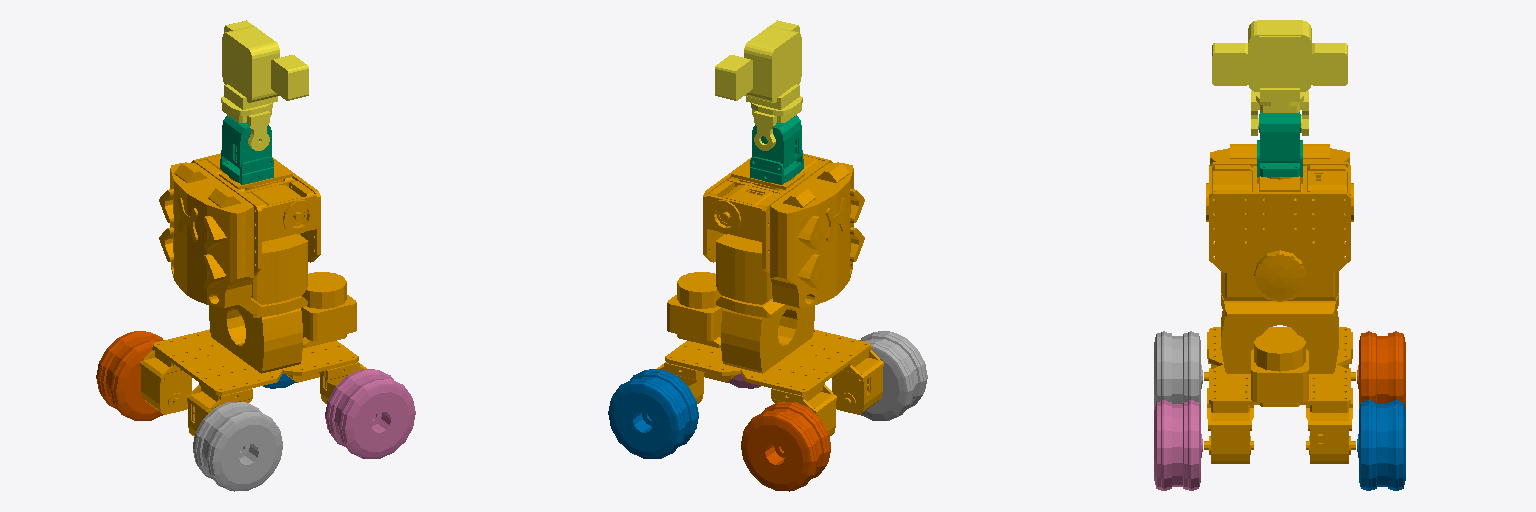
URDF robot description (kx_pr2):
<?xml version='1.0' encoding='utf-8'?>
<robot name="kx_pr2">

  <link name="base_link">
    <visual>
      <origin xyz="0.054 0 0.089" rpy="0 -0 0" />
      <geometry>
        <mesh filename="package://kx_pr2_bringup/urdf/meshes/base_link_mesh.stl" scale="1 1 1" />
      </geometry>
    </visual>
    <collision>
      <origin xyz="0.054 0 0.089" rpy="0 -0 0" />
      <geometry>
        <mesh filename="package://kx_pr2_bringup/urdf/meshes/base_link_mesh.stl" scale="1 1 1" />
      </geometry>
    </collision>
    <inertial>
      <mass value="0.671312" />
      <origin xyz="0.00124 1.38911e-10 0.02081" rpy="0 -0 0" />
      <inertia ixx="0.001849" ixy="-8.30713e-06" ixz="-1.71308e-06" iyy="0.002122" iyz="1.45167e-06" izz="0.003179" />
    </inertial>
  </link>

  <link name="base_laser">
    <visual>
    </visual>
    <collision>
    </collision>
  </link>

  <joint name="base_laser_joint" type="fixed">
    <origin xyz="0.1 0 -0.0" rpy="0 0 0"/>
    <parent link="base_link"/>
    <child link="base_laser"/>
  </joint>

  <link name="HEAD_LINK0">
    <visual>
      <origin xyz="-0.00725 0 0.1065" rpy="0 -0 0" />
      <geometry>
        <mesh filename="package://kx_pr2_bringup/urdf/meshes/HEAD_LINK0_mesh.stl" scale="1 1 1" />
      </geometry>
    </visual>
    <collision>
      <origin xyz="-0.00725 0 0.1065" rpy="0 -0 0" />
      <geometry>
        <mesh filename="package://kx_pr2_bringup/urdf/meshes/HEAD_LINK0_mesh.stl" scale="1 1 1" />
      </geometry>
    </collision>
    <inertial>
      <mass value="0.037398" />
      <origin xyz="-1.73472e-18 1.22056e-18 0.023093" rpy="0 -0 0" />
      <inertia ixx="8.69139e-05" ixy="-8.96373e-22" ixz="8.61164e-09" iyy="9.09972e-05" iyz="-5.25778e-09" izz="2.5436e-05" />
    </inertial>
  </link>

  <link name="HEAD_LINK1">
    <visual>
      <origin xyz="0 0 0.036" rpy="0 -0 0" />
      <geometry>
        <mesh filename="package://kx_pr2_bringup/urdf/meshes/HEAD_LINK1_mesh.stl" scale="1 1 1" />
      </geometry>
    </visual>
    <collision>
      <origin xyz="0 0 0.036" rpy="0 -0 0" />
      <geometry>
        <mesh filename="package://kx_pr2_bringup/urdf/meshes/HEAD_LINK1_mesh.stl" scale="1 1 1" />
      </geometry>
    </collision>
    <inertial>
      <mass value="0.093045" />
      <origin xyz="-0.001016 3.60351e-18 0.186465" rpy="0 -0 0" />
      <inertia ixx="0.000665" ixy="-1.79922e-07" ixz="-6.65543e-08" iyy="0.000652" iyz="-1.79583e-08" izz="0.000109" />
    </inertial>
  </link>


  <link name="LLEG_LINK0">
    <visual>
      <origin xyz="0.054 0.048 -0.065" rpy="0 -0 0"/>
      <geometry>
        <mesh filename="package://kx_pr2_bringup/urdf/meshes/LLEG_LINK0_mesh.stl" scale="1 1 1" />
      </geometry>
    </visual>
    <collision>
      <origin xyz="0 0 0" rpy="0 1.5707963267948966 1.5707963267948966"/>
      <geometry>
        <cylinder radius="0.04" length="0.02"/>
      </geometry>
    </collision>

    <inertial>
      <mass value="0.095024" />
      <origin xyz="-6.93889e-18 0.016915 0" rpy="0 -0 0"/>
      <inertia ixx="0.000174" ixy="5.92949e-22" ixz="5.05172e-20" iyy="0.000173" iyz="1.9762e-20" izz="0.000262"/>
    </inertial>
  </link>
  <link name="LLEG_LINK1">
    <visual>
      <origin xyz="-0.054 0.048 -0.065" rpy="0 -0 0"/>
      <geometry>
        <mesh filename="package://kx_pr2_bringup/urdf/meshes/LLEG_LINK1_mesh.stl" scale="1 1 1" />
      </geometry>
    </visual>
    <collision>
      <origin xyz="0 0 0" rpy="0 1.5707963267948966 1.5707963267948966"/>
      <geometry>
        <cylinder radius="0.04" length="0.02"/>
      </geometry>
    </collision>

    <inertial>
      <mass value="0.095024" />
      <origin xyz="-6.93889e-18 0.016915 0" rpy="0 -0 0"/>
      <inertia ixx="0.000174" ixy="5.92613e-22" ixz="5.04856e-20" iyy="0.000173" iyz="6.91669e-20" izz="0.000262"/>
    </inertial>
  </link>


  <link name="RLEG_LINK0">
    <visual>
      <origin xyz="0.054 -0.048 -0.065" rpy="0 -0 0"/>
      <geometry>
        <mesh filename="package://kx_pr2_bringup/urdf/meshes/RLEG_LINK0_mesh.stl" scale="1 1 1" />
      </geometry>
    </visual>
    <collision>
      <origin xyz="0 0 0" rpy="0 1.5707963267948966 1.5707963267948966"/>
      <geometry>
        <cylinder radius="0.04" length="0.02"/>
      </geometry>
    </collision>

    <inertial>
      <mass value="0.095024" />
      <origin xyz="-6.93889e-18 0.016915 0" rpy="0 -0 0"/>
      <inertia ixx="0.000174" ixy="5.9261e-22" ixz="5.04911e-20" iyy="0.000173" iyz="-1.9762e-20" izz="0.000262"/>
    </inertial>
  </link>
  <link name="RLEG_LINK1">
    <visual>
      <origin xyz="-0.054 -0.048 -0.065" rpy="0 -0 0"/>
      <geometry>
        <mesh filename="package://kx_pr2_bringup/urdf/meshes/RLEG_LINK1_mesh.stl" scale="1 1 1" />
      </geometry>
    </visual>
    <collision>
      <origin xyz="0 0 0" rpy="0 1.5707963267948966 1.5707963267948966"/>
      <geometry>
        <cylinder radius="0.04" length="0.02"/>
      </geometry>
    </collision>

    <inertial>
      <mass value="0.095024" />
      <origin xyz="-6.93889e-18 0.016915 0" rpy="0 -0 0"/>
      <inertia ixx="0.000174" ixy="5.93143e-22" ixz="5.05395e-20" iyy="0.000173" iyz="-3.95239e-20" izz="0.000262"/>
    </inertial>
  </link>

  <joint name="LLEG_JOINT0" type="continuous">
    <parent link="base_link"/>
    <child  link="LLEG_LINK0"/>
    <origin xyz="0.054 0.048 -0.065" rpy="0 -0 0 "/>
    <axis   xyz="0 1 0"/>
    <limit lower="-1745.33" upper="1745.33" effort="0.656248" velocity="7.47998" />
    <dynamics damping="0.2" friction="0" />
  </joint>
  <joint name="LLEG_JOINT1" type="continuous">
    <parent link="base_link"/>
    <child  link="LLEG_LINK1"/>
    <origin xyz="-0.054 0.048 -0.065" rpy="0 -0 0 "/>
    <axis   xyz="0 1 0"/>
    <limit lower="-1745.33" upper="1745.33" effort="0.656248" velocity="7.47998" />
    <dynamics damping="0.2" friction="0" />
  </joint>
  <joint name="RLEG_JOINT0" type="continuous">
    <parent link="base_link"/>
    <child  link="RLEG_LINK0"/>
    <origin xyz="0.054 -0.048 -0.065" rpy="0 -0 0 "/>
    <axis   xyz="0 1 0"/>
    <limit lower="-1745.33" upper="1745.33" effort="0.656248" velocity="7.47998" />
    <dynamics damping="0.2" friction="0" />
  </joint>
  <joint name="RLEG_JOINT1" type="continuous">
    <parent link="base_link"/>
    <child  link="RLEG_LINK1"/>
    <origin xyz="-0.054 -0.048 -0.065" rpy="0 -0 0 "/>
    <axis   xyz="0 1 0"/>
    <limit lower="-1745.33" upper="1745.33" effort="0.656248" velocity="7.47998" />
    <dynamics damping="0.2" friction="0" />
  </joint>
  <joint name="HEAD_JOINT0" type="revolute">
    <parent link="base_link" />
    <child link="HEAD_LINK0" />
    <origin xyz="-0.00725 0 0.1065" rpy="0 -0 0 " />
    <axis xyz="0 0 -1" />
    <limit lower="-2.96706" upper="2.96706" effort="0.656248" velocity="7.47998" />
    <dynamics damping="0.2" friction="0" />
  </joint>
  <joint name="HEAD_JOINT1" type="revolute">
    <parent link="HEAD_LINK0" />
    <child link="HEAD_LINK1" />
    <origin xyz="0 0 0.036" rpy="0 -0 0 " />
    <axis xyz="0 -1 0" />
    <limit lower="-2.0944" upper="2.0944" effort="0.656248" velocity="7.47998" />
    <dynamics damping="0.2" friction="0" />
  </joint>

  <gazebo reference="base_link">
    <mu1>0.5</mu1>
    <mu2>0.5</mu2>
    <kp>100000</kp>
    <kd>1</kd>
    <gravity>true</gravity>
    <sensor name="imu_sensor" type="imu">
      <always_on>true</always_on>
      <update_rate>100</update_rate>
      <visualize>true</visualize>
      <topic>__default_topic__</topic>
      <plugin filename="libgazebo_ros_imu_sensor.so" name="imu_plugin">
        <robotNamespace>/imu_publisher</robotNamespace>
        <topicName>imu</topicName>
        <bodyName>base_link</bodyName>
        <updateRateHZ>100.0</updateRateHZ>
        <gaussianNoise>0.0</gaussianNoise>
        <xyzOffset>0 0 0</xyzOffset>
        <rpyOffset>0 0 0</rpyOffset>
        <frameName>base_link</frameName>
      </plugin>
      <pose>0 0 0 0 0 0</pose>
    </sensor>
  </gazebo>

  <gazebo reference="base_laser">
    <sensor type="ray" name="laser">
      <pose>0 0 0 0 0 0</pose>
      <visualize>true</visualize>
      <update_rate>10</update_rate>
      <ray>
        <scan>
          <horizontal>
            <samples>720</samples>
            <resolution>1</resolution>
            <min_angle>-1.5708</min_angle>
            <max_angle>1.5708</max_angle>
          </horizontal>
        </scan>
        <range>
          <min>0.1</min>
          <max>12.0</max>
        </range>
        <noise>
          <type>gaussian</type>
          <mean>0.0</mean>
          <stddev>0.01</stddev>
        </noise>
      </ray>
      <plugin name="gazebo_ros_laser" filename="libgazebo_ros_laser.so">
        <robotNamespace>/</robotNamespace>
        <frameName>base_laser</frameName>
        <topicName>scan</topicName>
      </plugin>
    </sensor>
  </gazebo>

  <gazebo reference="HEAD_LINK0">
    <mu1>0.4</mu1>
    <mu2>0.4</mu2>
    <kp>100000</kp>
    <kd>1</kd>
  </gazebo>
  <gazebo reference="HEAD_LINK1">
    <mu1>0.5</mu1>
    <mu2>0.5</mu2>
    <kp>100000</kp>
    <kd>1</kd>
  </gazebo>
  <gazebo reference="LLEG_LINK0">
    <mu1>0.5</mu1>
    <mu2>0.5</mu2>
    <kp>100000</kp>
    <kd>1</kd>
  </gazebo>
  <gazebo reference="LLEG_LINK1">
    <mu1>0.5</mu1>
    <mu2>0.5</mu2>
    <kp>100000</kp>
    <kd>1</kd>
  </gazebo>
  <gazebo reference="RLEG_LINK0">
    <mu1>0.5</mu1>
    <mu2>0.5</mu2>
    <kp>100000</kp>
    <kd>1</kd>
  </gazebo>
  <gazebo reference="RLEG_LINK1">
    <mu1>0.5</mu1>
    <mu2>0.5</mu2>
    <kp>100000</kp>
    <kd>1</kd>
  </gazebo>

  <joint name="camera_joint" type="fixed">
    <origin rpy="0 0 0" xyz="-0.031 0.0125 -0.016"/>
    <parent link="HEAD_LINK1"/>
    <child link="camera_link"/>
  </joint>

  <link name="camera_link">
    <visual>
      <origin rpy="0 0 1.5707963267948966" xyz="0 0 0"/>
      <!-- <geometry> -->
      <!--   <mesh filename="package://turtlebot_description/meshes/sensors/kinect.stl"/> -->
      <!-- </geometry> -->
    </visual>
    <collision>
      <origin rpy="0 0 0" xyz="0.0 0.0 0.0"/>
      <!-- <geometry> -->
      <!--   <box size="0.07271 0.27794 0.073"/> -->
      <!-- </geometry> -->
    </collision>
    <inertial>
      <mass value="0.564"/>
      <origin xyz="0 0 0"/>
      <inertia ixx="0.003881243" ixy="0.0" ixz="0.0" iyy="0.000498940" iyz="0.0" izz="0.003879257"/>
    </inertial>
  </link>
  <!-- The fixed joints & links below are usually published by static_transformers launched by the OpenNi launch
       files. However, for Gazebo simulation we need them, so we add them here.
       (Hence, don't publish them additionally!) -->
  <joint name="camera_depth_joint" type="fixed">
    <origin rpy="0 0 0" xyz="0 0.025 0"/>
    <parent link="camera_link"/>
    <child link="camera_depth_frame"/>
  </joint>
  <link name="camera_depth_frame"/>
  <joint name="camera_depth_optical_joint" type="fixed">
    <origin rpy="-1.5707963267948966 0 -1.5707963267948966" xyz="0 0 0"/>
    <parent link="camera_depth_frame"/>
    <child link="camera_depth_optical_frame"/>
  </joint>
  <link name="camera_depth_optical_frame"/>
  <gazebo reference="camera_link">
    <sensor name="camera" type="depth">
      <always_on>true</always_on>
      <update_rate>20.0</update_rate>
      <camera>
        <horizontal_fov>1.0471975511965976</horizontal_fov>
        <image>
          <format>B8G8R8</format>
          <width>640</width>
          <height>480</height>
        </image>
        <clip>
          <near>0.05</near>
          <far>8.0</far>
        </clip>
      </camera>
      <plugin filename="libgazebo_ros_openni_kinect.so" name="kinect_camera_controller">
        <cameraName>camera</cameraName>
        <alwaysOn>true</alwaysOn>
        <updateRate>10</updateRate>
        <imageTopicName>rgb/image_raw</imageTopicName>
        <depthImageTopicName>depth/image_raw</depthImageTopicName>
        <pointCloudTopicName>depth/points</pointCloudTopicName>
        <cameraInfoTopicName>rgb/camera_info</cameraInfoTopicName>
        <depthImageCameraInfoTopicName>depth/camera_info</depthImageCameraInfoTopicName>
        <frameName>camera_depth_optical_frame</frameName>
        <baseline>0.1</baseline>
        <distortion_k1>0.0</distortion_k1>
        <distortion_k2>0.0</distortion_k2>
        <distortion_k3>0.0</distortion_k3>
        <distortion_t1>0.0</distortion_t1>
        <distortion_t2>0.0</distortion_t2>
        <pointCloudCutoff>0.4</pointCloudCutoff>
      </plugin>
    </sensor>
  </gazebo>

  <gazebo>
    <plugin filename="libgazebo_ros_control.so" name="gazebo_ros_control"/>
    <!-- <plugin filename="libgazebo_ros_p3d.so" name="ground_truth"> -->
    <!--   <frameName>map</frameName> -->
    <!--   <bodyName>base_footprint</bodyName> -->
    <!--   <topicName>base_pose_ground_truth</topicName> -->
    <!--   <updateRate>30.0</updateRate> -->
    <!-- </plugin> -->
  </gazebo>

  <transmission name="HEAD_JOINT0_trans">
    <type>transmission_interface/SimpleTransmission</type>
    <joint name="HEAD_JOINT0">
      <hardwareInterface>hardware_interface/PositionJointInterface</hardwareInterface>
    </joint>
    <actuator name="HEAD_JOINT0_motor">
      <mechanicalReduction>1</mechanicalReduction>
      <hardwareInterface>hardware_interface/PositionJointInterface</hardwareInterface>
    </actuator>
  </transmission>

  <transmission name="HEAD_JOINT1_trans">
    <type>transmission_interface/SimpleTransmission</type>
    <joint name="HEAD_JOINT1">
      <hardwareInterface>hardware_interface/PositionJointInterface</hardwareInterface>
    </joint>
    <actuator name="HEAD_JOINT1_motor">
      <mechanicalReduction>1</mechanicalReduction>
      <hardwareInterface>hardware_interface/PositionJointInterface</hardwareInterface>
    </actuator>
  </transmission>

  <transmission name="RLEG_JOINT0_trans">
    <type>transmission_interface/SimpleTransmission</type>
    <joint name="RLEG_JOINT0">
      <hardwareInterface>hardware_interface/VelocityJointInterface</hardwareInterface>
    </joint>
    <actuator name="RLEG_JOINT0_motor">
      <mechanicalReduction>1</mechanicalReduction>
      <hardwareInterface>hardware_interface/VelocityJointInterface</hardwareInterface>
    </actuator>
  </transmission>

  <transmission name="RLEG_JOINT1_trans">
    <type>transmission_interface/SimpleTransmission</type>
    <joint name="RLEG_JOINT1">
      <hardwareInterface>hardware_interface/VelocityJointInterface</hardwareInterface>
    </joint>
    <actuator name="RLEG_JOINT1_motor">
      <mechanicalReduction>1</mechanicalReduction>
      <hardwareInterface>hardware_interface/VelocityJointInterface</hardwareInterface>
    </actuator>
  </transmission>

  <transmission name="LLEG_JOINT0_trans">
    <type>transmission_interface/SimpleTransmission</type>
    <joint name="LLEG_JOINT0">
      <hardwareInterface>hardware_interface/VelocityJointInterface</hardwareInterface>
    </joint
    ><actuator name="LLEG_JOINT0_motor">
    <mechanicalReduction>1</mechanicalReduction>
    <hardwareInterface>hardware_interface/VelocityJointInterface</hardwareInterface>
  </actuator>
  </transmission>

  <transmission name="LLEG_JOINT1_trans">
    <type>transmission_interface/SimpleTransmission</type>
    <joint name="LLEG_JOINT1">
      <hardwareInterface>hardware_interface/VelocityJointInterface</hardwareInterface>
    </joint>
    <actuator name="LLEG_JOINT1_motor">
      <mechanicalReduction>1</mechanicalReduction>
      <hardwareInterface>hardware_interface/VelocityJointInterface</hardwareInterface>
    </actuator>
  </transmission>

</robot>

--- Render facts (derived) ---
The picture shows the robot from 3 angles, left to right: view 1: azimuth 30°, elevation 25°; view 2: azimuth 150°, elevation 25°; view 3: azimuth 270°, elevation 25°; orthographic projection.
Model kx_pr2 with 11 links and 10 joints (2 revolute, 4 continuous, 4 fixed), rooted at base_link, posed every joint at zero.
Visible links, largest first — view 1: base_link, HEAD_LINK1, RLEG_LINK0, RLEG_LINK1, LLEG_LINK1, HEAD_LINK0; view 2: base_link, HEAD_LINK1, LLEG_LINK0, LLEG_LINK1, RLEG_LINK1, HEAD_LINK0; view 3: base_link, HEAD_LINK1, LLEG_LINK0, RLEG_LINK0, LLEG_LINK1, RLEG_LINK1, HEAD_LINK0.
Boxes of the visible links, x1,y1,x2,y2 form: base_link: [140, 153, 366, 436]; HEAD_LINK1: [221, 20, 308, 150]; RLEG_LINK0: [325, 369, 415, 458]; RLEG_LINK1: [193, 402, 282, 491]; LLEG_LINK1: [96, 331, 163, 420]; HEAD_LINK0: [220, 115, 273, 184]; base_link: [657, 153, 883, 436]; HEAD_LINK1: [715, 20, 802, 150]; LLEG_LINK0: [608, 369, 698, 458]; LLEG_LINK1: [741, 402, 830, 491]; RLEG_LINK1: [860, 331, 927, 420]; HEAD_LINK0: [750, 115, 803, 184]; base_link: [1204, 144, 1355, 463]; HEAD_LINK1: [1212, 20, 1347, 135]; LLEG_LINK0: [1357, 400, 1405, 490]; RLEG_LINK0: [1154, 400, 1202, 490]; LLEG_LINK1: [1357, 331, 1405, 409]; RLEG_LINK1: [1154, 331, 1202, 409]; HEAD_LINK0: [1257, 112, 1302, 176].
Bounding box of the posed robot: 0.169 × 0.167 × 0.31 m (x, y, z).
7 mesh visuals loaded from 7 distinct referenced files (7 binary STL).
